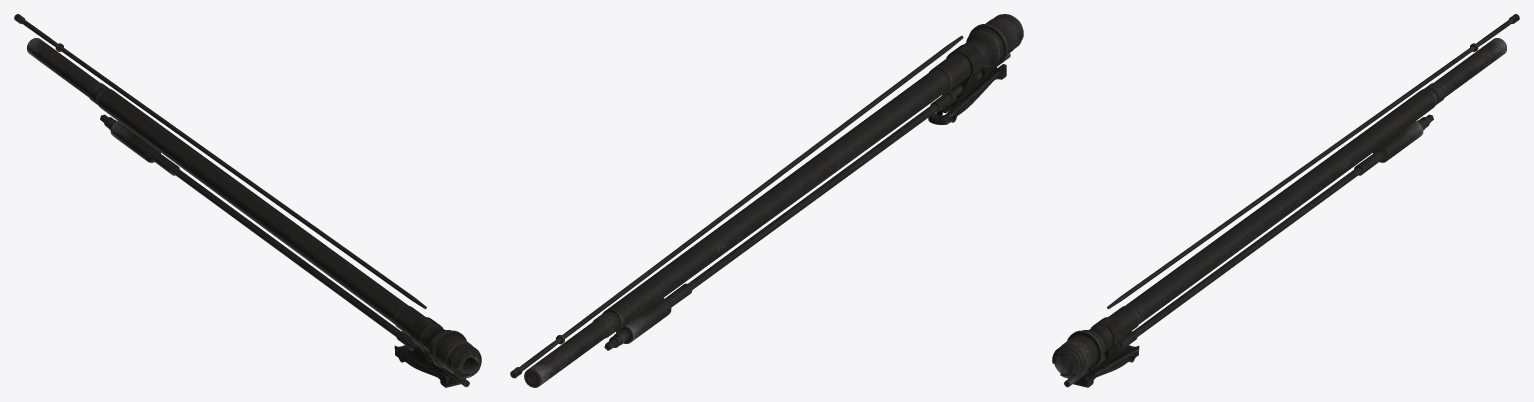
3 renders of one model, left to right at view 1: azimuth 30°, elevation 25°; view 2: azimuth 150°, elevation 25°; view 3: azimuth 330°, elevation 25°, orthographic. The views are drawn at different scales.
Parts seen in each view (by area): view 1: TW_6410758c857473525b08bb77_PZ_Import; view 2: TW_6410758c857473525b08bb77_PZ_Import; view 3: TW_6410758c857473525b08bb77_PZ_Import.
Boxes of the visible parts, box(x1,y1,x2,y2) form: TW_6410758c857473525b08bb77_PZ_Import: box(14, 14, 481, 387); TW_6410758c857473525b08bb77_PZ_Import: box(510, 14, 1023, 387); TW_6410758c857473525b08bb77_PZ_Import: box(1052, 14, 1519, 387).
Bounding box in the file's own units: 0.017 × 0.3816 × 0.0305.
Materials: 1 (1 with a texture image).
